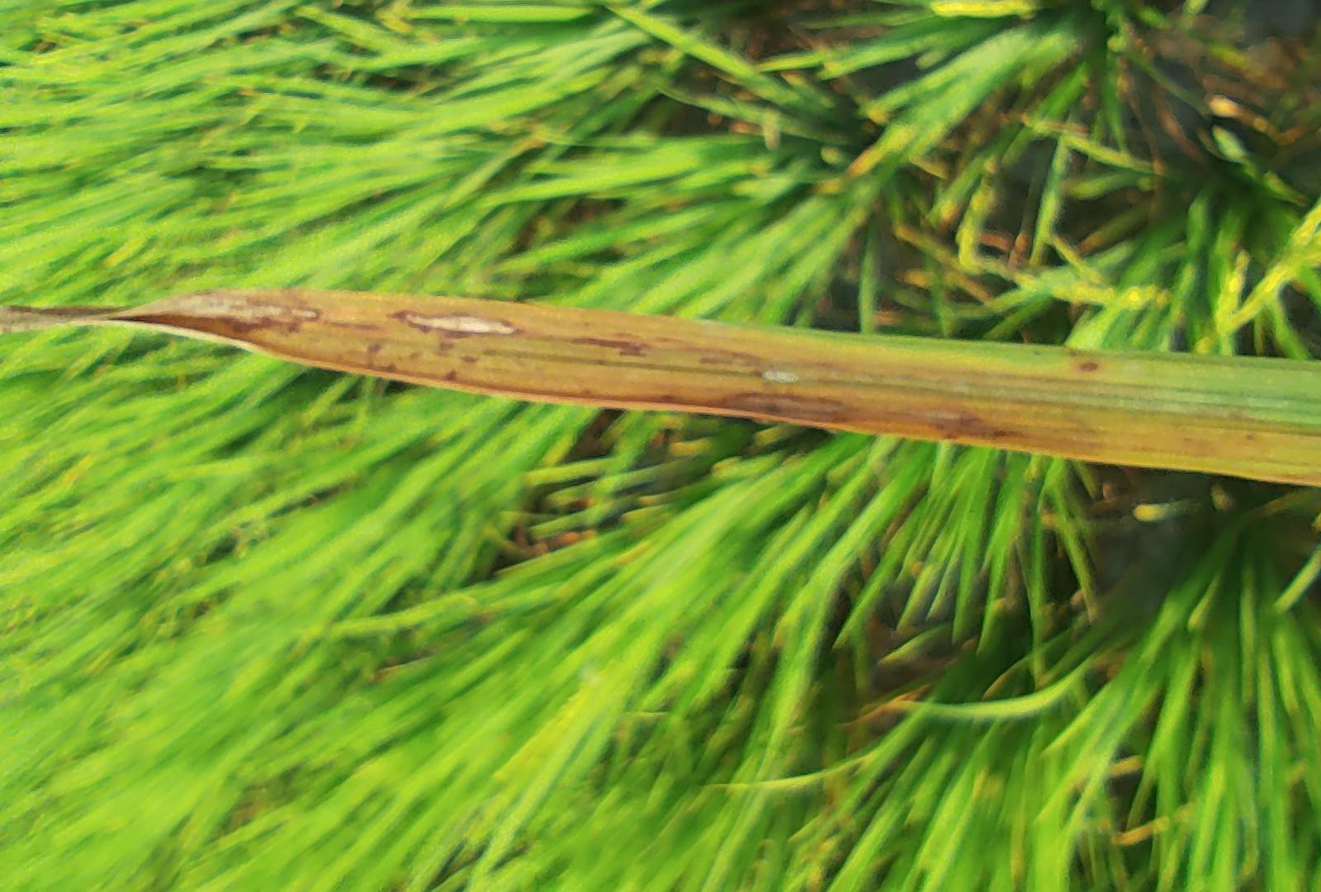LEAF: (0, 289, 1320, 487)
LEAF BLAST: (0, 290, 322, 364), (711, 393, 866, 423), (900, 410, 1030, 443), (386, 311, 524, 339), (1080, 361, 1099, 373)
